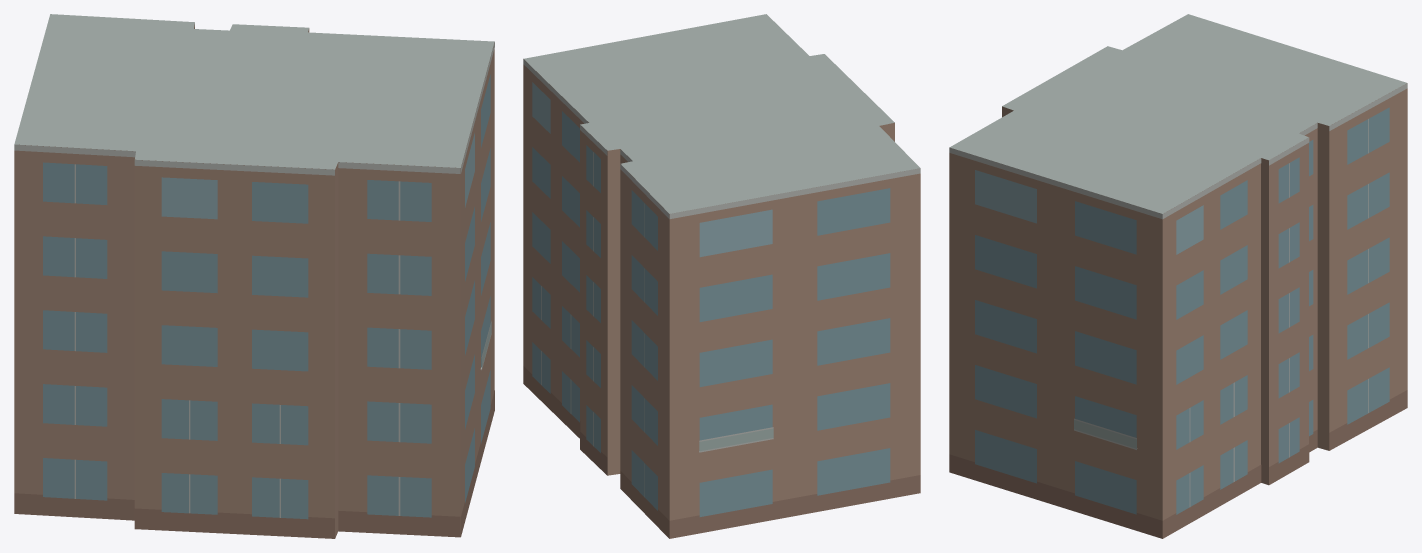
File: survey-upis-32629406.glb
3 views of the same model, side by side, from view 1: azimuth 30°, elevation 25°; view 2: azimuth 150°, elevation 25°; view 3: azimuth 270°, elevation 25° (orthographic). The views are drawn at different scales.
Parts seen in each view (by area): view 1: survey-upis-32629406.tmp; view 2: survey-upis-32629406.tmp; view 3: survey-upis-32629406.tmp.
Boxes of the visible parts, x1,y1,x2,y2 form: survey-upis-32629406.tmp: (14, 14, 494, 538); survey-upis-32629406.tmp: (523, 14, 920, 538); survey-upis-32629406.tmp: (949, 14, 1407, 538).
Size of the model in its own units: 19.61 by 14.85 by 18.99.
